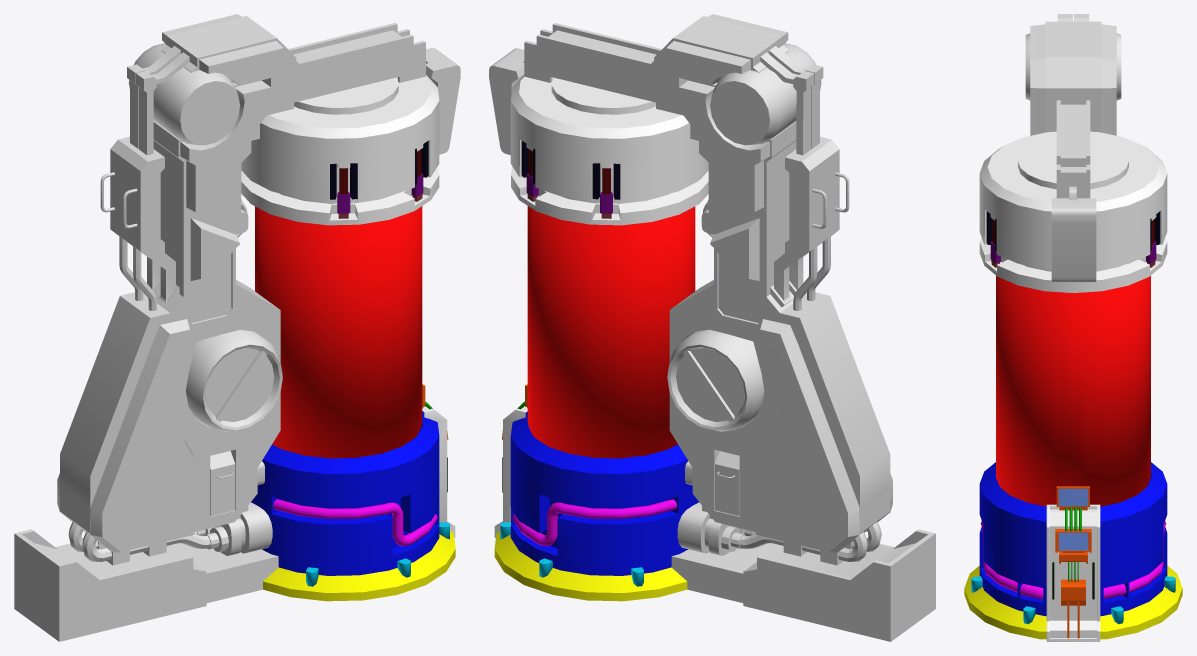
File: CreoCamera.fbx
3 renders of one model, left to right at view 1: azimuth 30°, elevation 25°; view 2: azimuth 150°, elevation 25°; view 3: azimuth 270°, elevation 25°, orthographic. The views are drawn at different scales.
Visible parts, largest first — view 1: 1_creohandler_001, 1_creo_001; view 2: 1_creohandler_001, 1_creo_001; view 3: 1_creo_001, 1_creohandler_001.
Part boxes in pixels (box(x1,y1,x2,y2)): 1_creohandler_001: box(14, 14, 460, 641); 1_creo_001: box(241, 75, 455, 601); 1_creohandler_001: box(489, 14, 935, 641); 1_creo_001: box(494, 75, 708, 601); 1_creo_001: box(964, 131, 1182, 641); 1_creohandler_001: box(1025, 14, 1121, 282).
Bounding box in the file's own units: 198 × 249 × 97.7.
